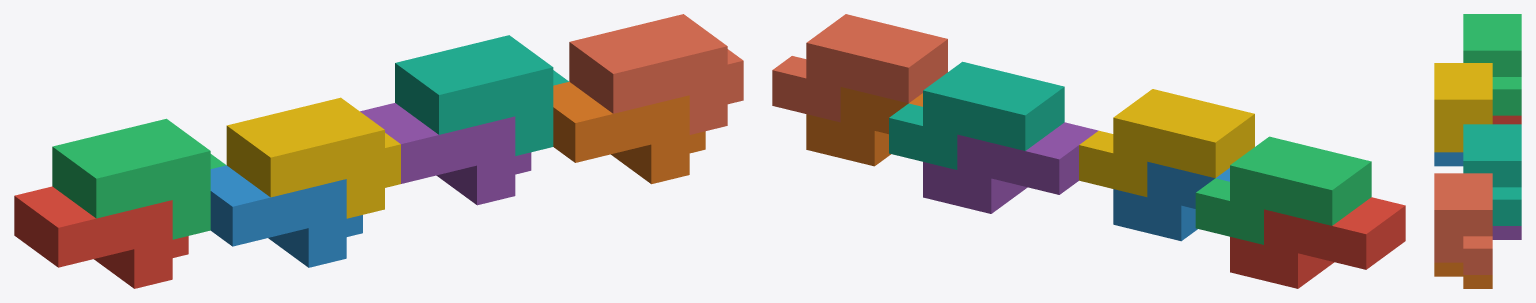
Rendered from tiling.obj.
The picture shows the model from 3 angles, left to right: view 1: azimuth 30°, elevation 25°; view 2: azimuth 150°, elevation 25°; view 3: azimuth 270°, elevation 25°; orthographic projection. The views are drawn at different scales.
Parts seen in each view (by area): view 1: copy_1_domain_4, copy_1_domain_8, copy_1_domain_3, copy_1_domain_7, copy_1_domain_1, copy_1_domain_6, copy_1_domain_2, copy_1_domain_5; view 2: copy_1_domain_3, copy_1_domain_7, copy_1_domain_4, copy_1_domain_8, copy_1_domain_1, copy_1_domain_5, copy_1_domain_6, copy_1_domain_2; view 3: copy_1_domain_8, copy_1_domain_7, copy_1_domain_4, copy_1_domain_3, copy_1_domain_6, copy_1_domain_2, copy_1_domain_5, copy_1_domain_1.
Part boxes in pixels (<box>): copy_1_domain_4: <box>226,97,400,218</box>; copy_1_domain_8: <box>569,14,743,134</box>; copy_1_domain_3: <box>52,118,225,239</box>; copy_1_domain_7: <box>395,35,568,155</box>; copy_1_domain_1: <box>14,186,188,288</box>; copy_1_domain_6: <box>553,81,705,184</box>; copy_1_domain_2: <box>210,165,362,267</box>; copy_1_domain_5: <box>360,103,531,205</box>; copy_1_domain_3: <box>1195,136,1371,244</box>; copy_1_domain_7: <box>889,61,1064,169</box>; copy_1_domain_4: <box>1079,89,1254,196</box>; copy_1_domain_8: <box>772,14,947,122</box>; copy_1_domain_1: <box>1230,197,1405,288</box>; copy_1_domain_5: <box>923,122,1098,213</box>; copy_1_domain_6: <box>806,87,922,166</box>; copy_1_domain_2: <box>1113,161,1229,241</box>; copy_1_domain_8: <box>1434,173,1492,274</box>; copy_1_domain_7: <box>1463,124,1521,225</box>; copy_1_domain_4: <box>1434,63,1492,152</box>; copy_1_domain_3: <box>1463,14,1521,115</box>; copy_1_domain_6: <box>1434,262,1492,288</box>; copy_1_domain_2: <box>1434,152,1463,166</box>; copy_1_domain_5: <box>1492,226,1521,239</box>; copy_1_domain_1: <box>1492,115,1521,124</box>.
Bounding box in the file's own units: 18 × 3 × 3.
